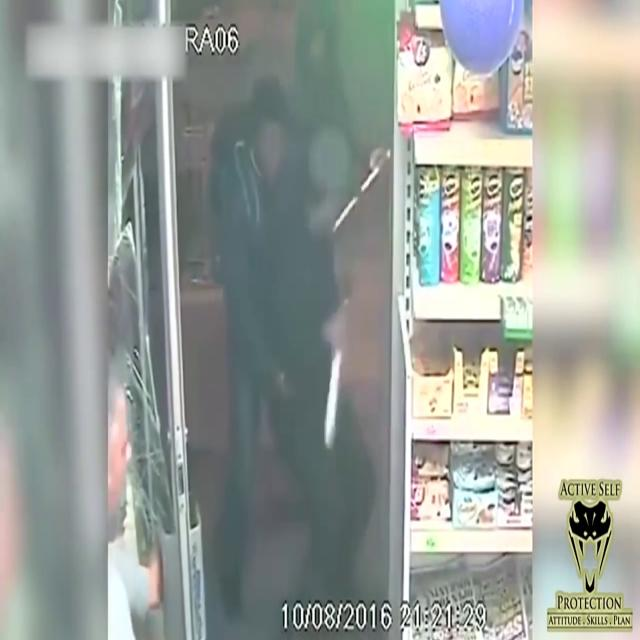Knife_Handle: (324, 296, 350, 448)
